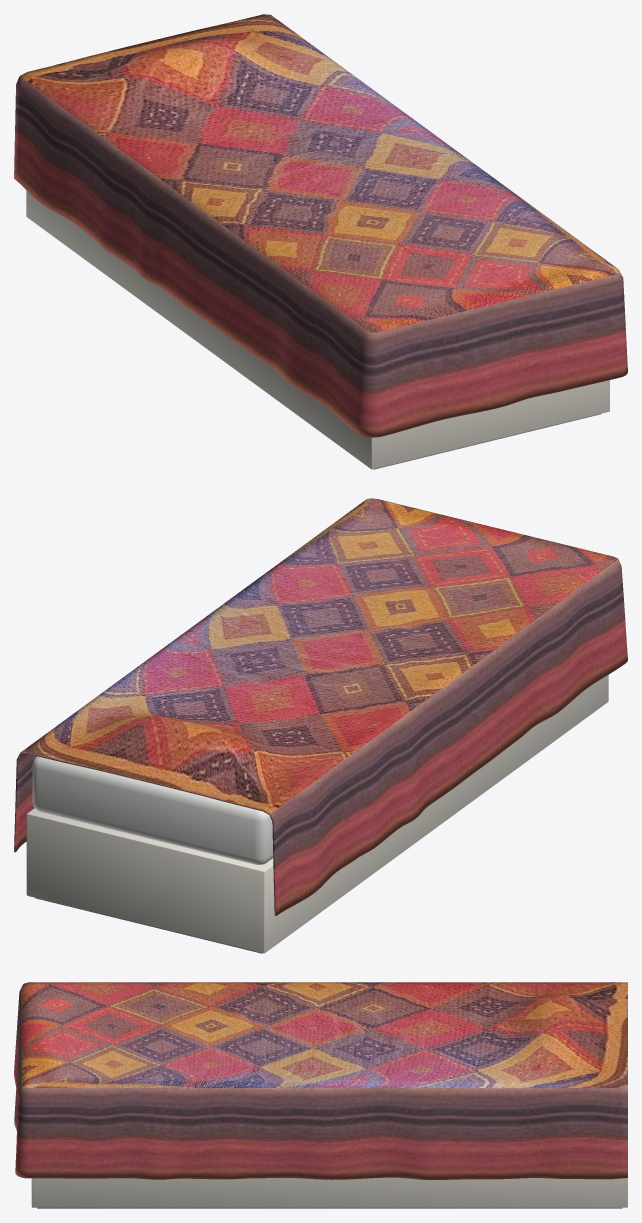
File: recLN9N9PG3aKcfe5.glb
The picture shows the model from 3 angles, top to bottom: view 1: azimuth 30°, elevation 25°; view 2: azimuth 150°, elevation 25°; view 3: azimuth 270°, elevation 25°; orthographic projection. The views are drawn at different scales.
Visible parts, largest first — view 1: lit_appoint_mezzanine_Corps; view 2: lit_appoint_mezzanine_Corps; view 3: lit_appoint_mezzanine_Corps.
Boxes of the visible parts, bbox=[...] form: lit_appoint_mezzanine_Corps: bbox=[14, 14, 627, 469]; lit_appoint_mezzanine_Corps: bbox=[14, 498, 627, 953]; lit_appoint_mezzanine_Corps: bbox=[14, 982, 627, 1208].
Bounding box in the file's own units: 0.995 × 0.5994 × 2.24.
Materials: 5 (2 with a texture image).
